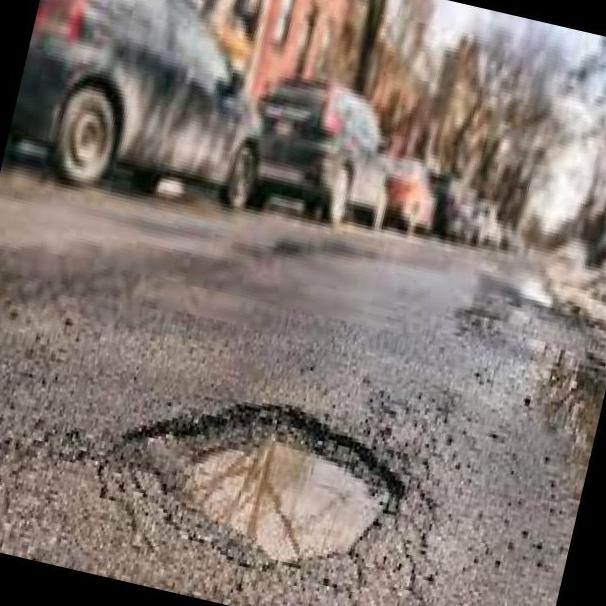pothole: (88, 359, 420, 600)
